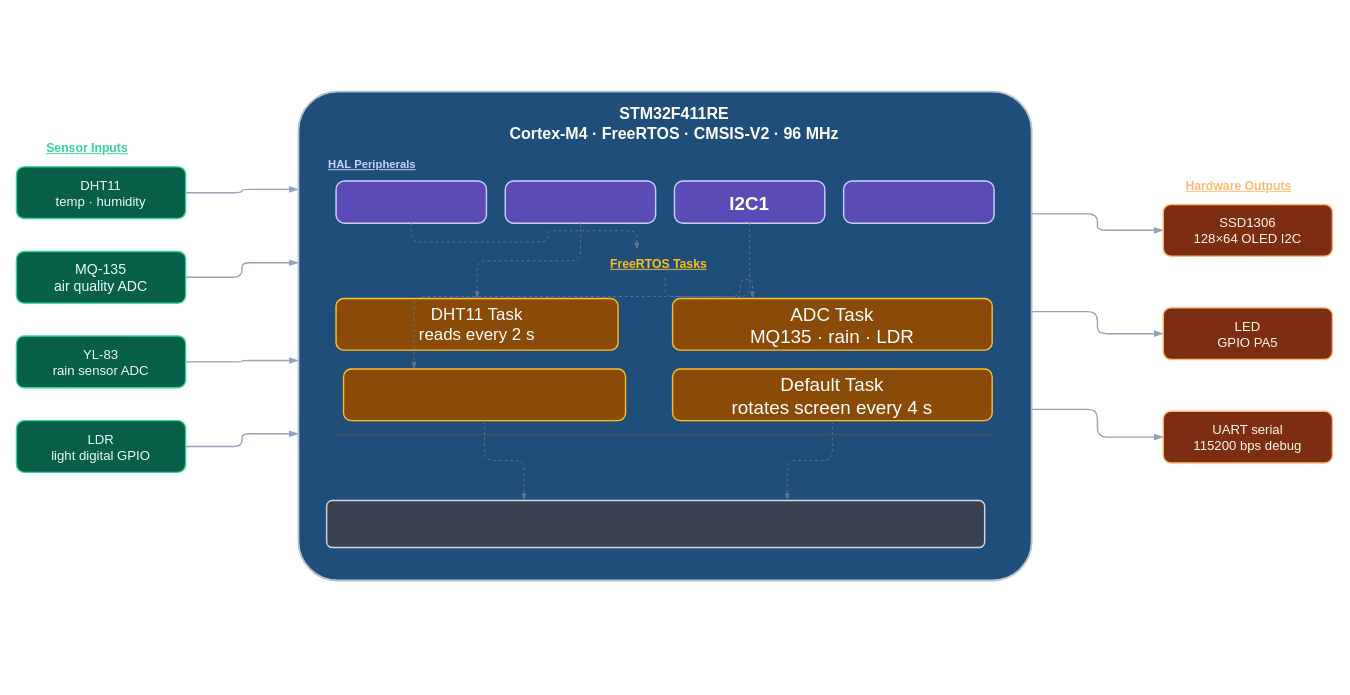
Image size: 1350x695. Some labels were removed from this diagram. Here are the shapes that lost their labels. From the top down, the box of each, then its label:
(335, 180, 487, 224): ADC1
(504, 180, 656, 224): TIM1
(843, 180, 994, 224): USART1
(342, 368, 626, 421): OLED Task refreshes every 150 ms
(326, 499, 985, 548): OLED mutex — thread-safe display access
